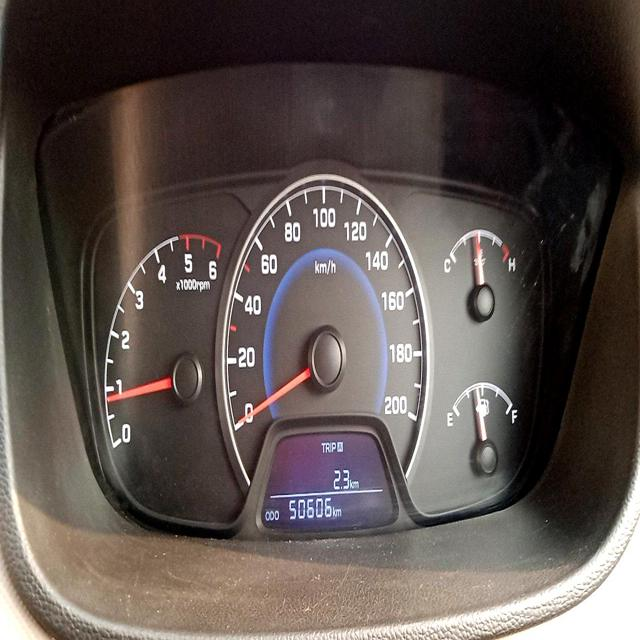odometer: (283, 493, 335, 522)
